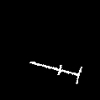double_crochet: (30, 62, 81, 83)
